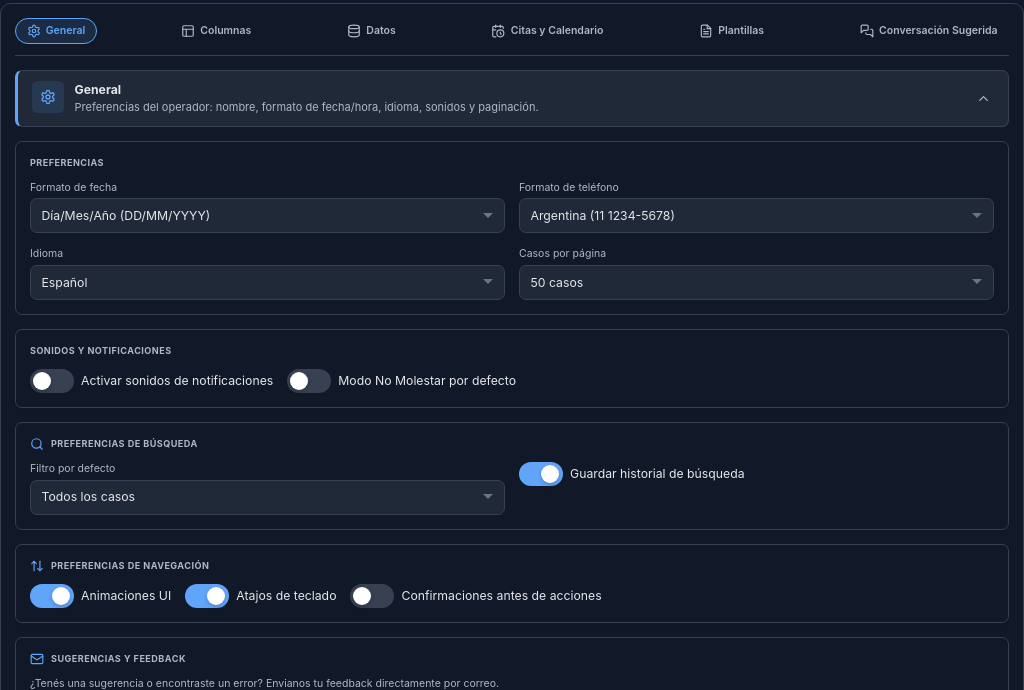
Test: ConfiguracionView · Conversación Sugerida (1.9.6) › Datos (fix visual 1.9.6) › confirmar mantiene el label fijo y la leyenda vive fuera de la fila
This screenshot has width=1024, height=690.
Click the button "Datos": [371, 31] box [336,18,407,44]
(page scrolled)
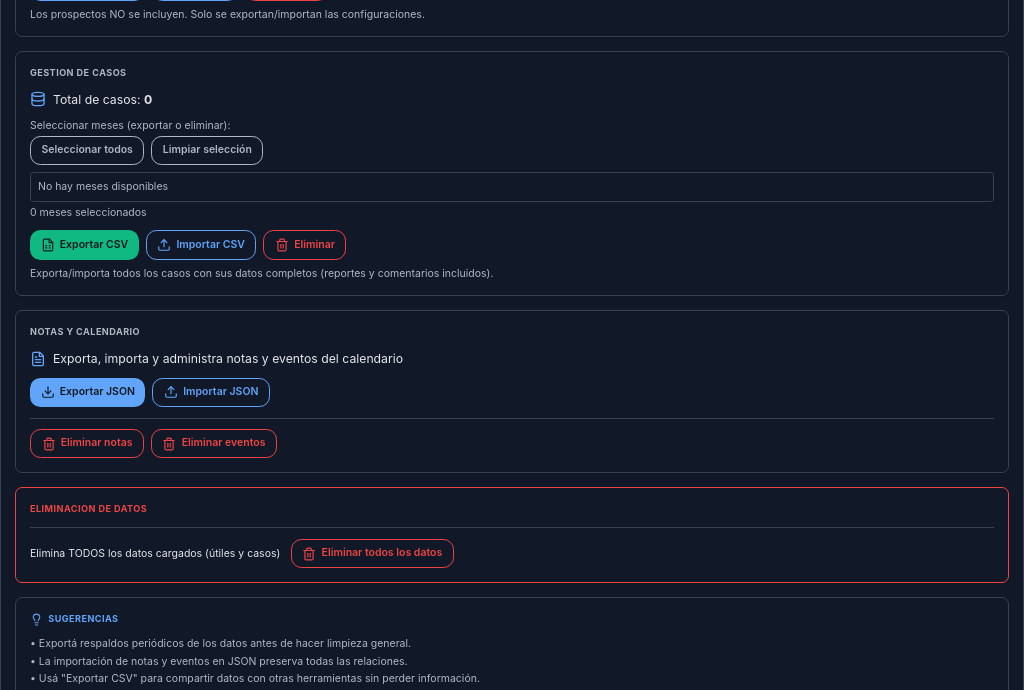
Click the button "Eliminar notas": [87, 444] box [30,429,144,458]
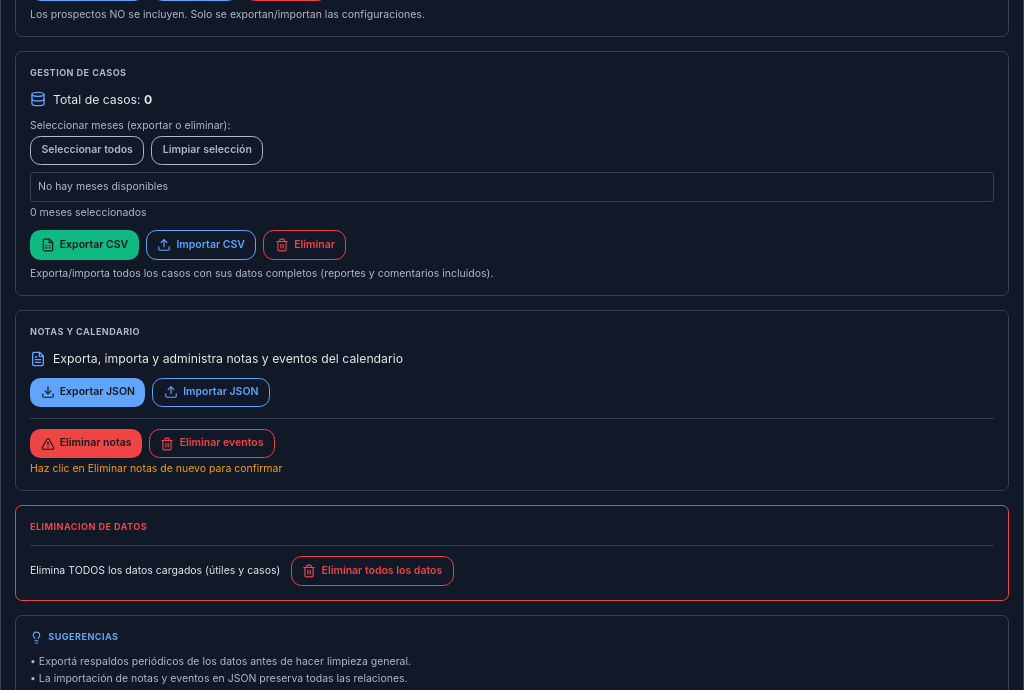
Result: the button "Eliminar notas" is shown at [30,429,142,458]
Result: the text "Haz clic en Eliminar notas de nuevo para confirmar" is shown at [30,462,282,475]
